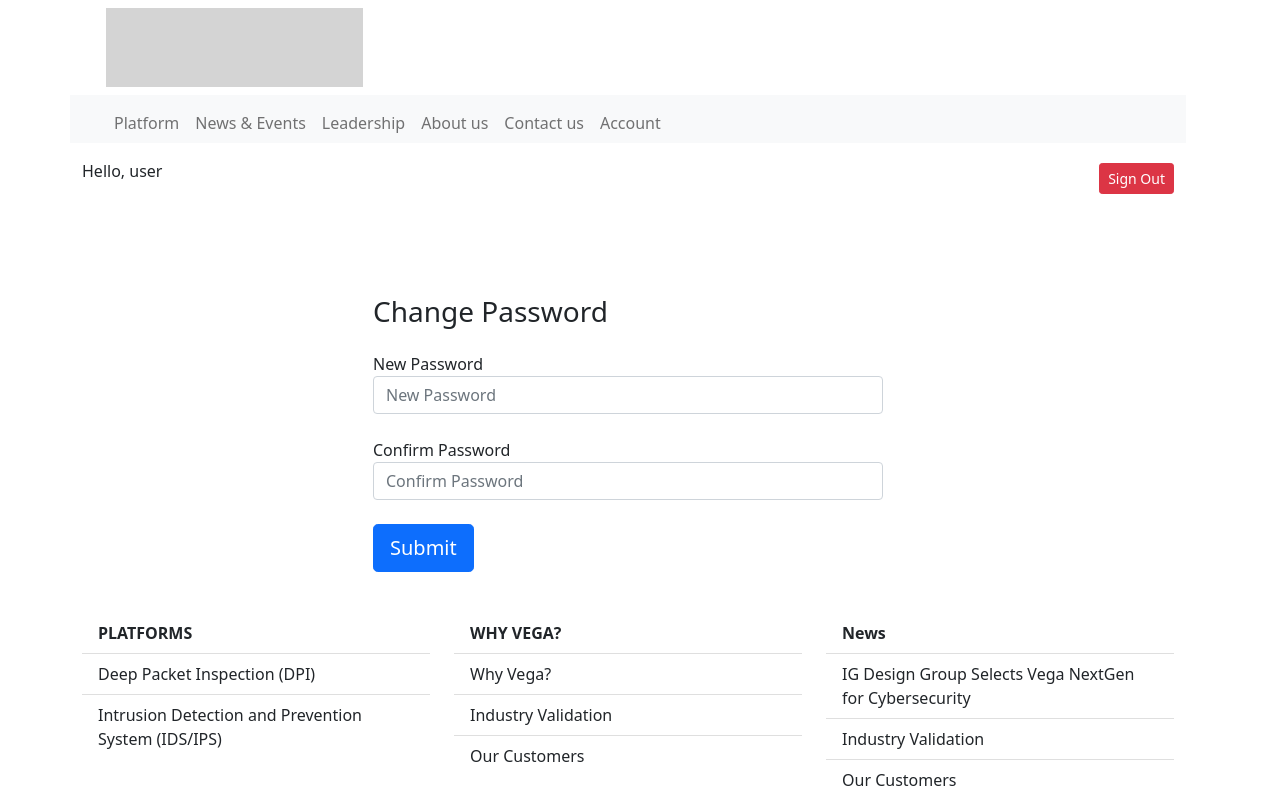
Test: UserAccount › change password form › shows error message when confirmPassword is empty
The image size is (1280, 800).
In the password field labelled "New Password": (628, 396) [373,376,883,414], type "12345678"
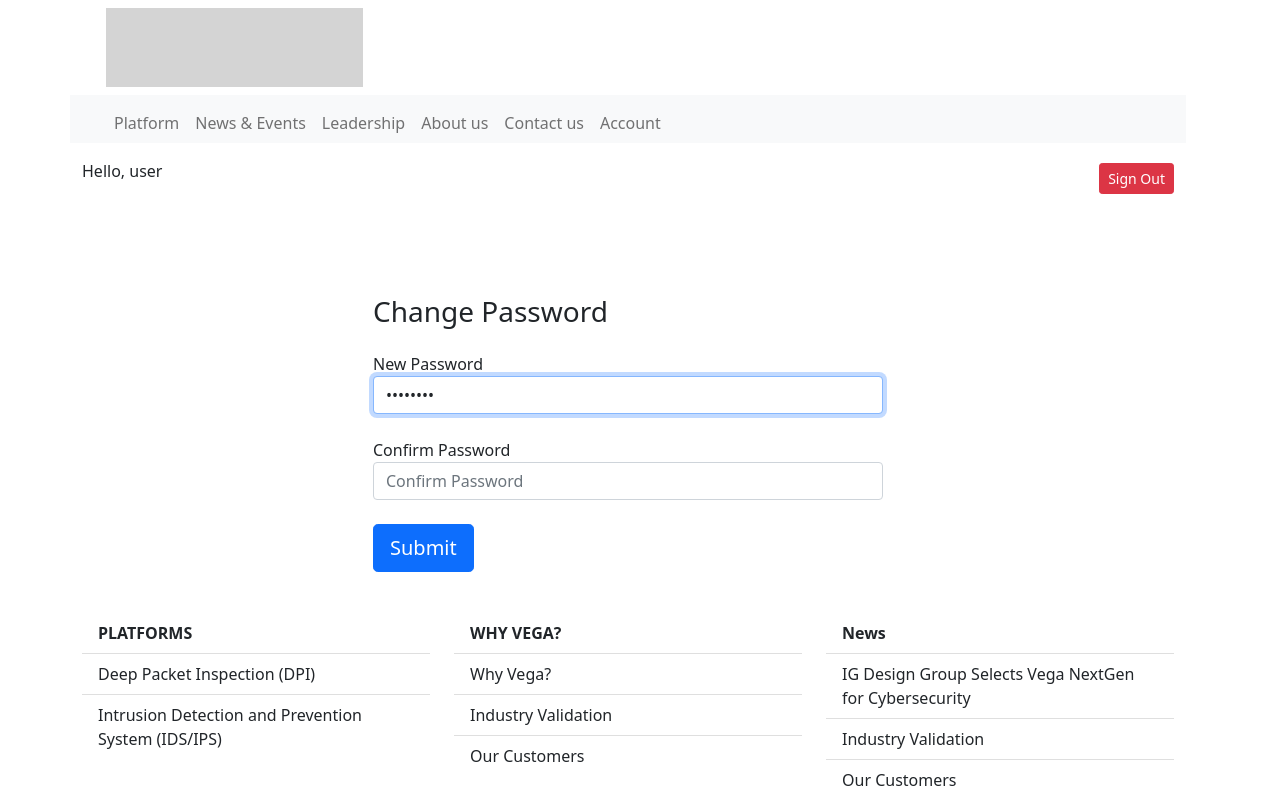
Click the button "Submit": (423, 548) [373,524,474,572]
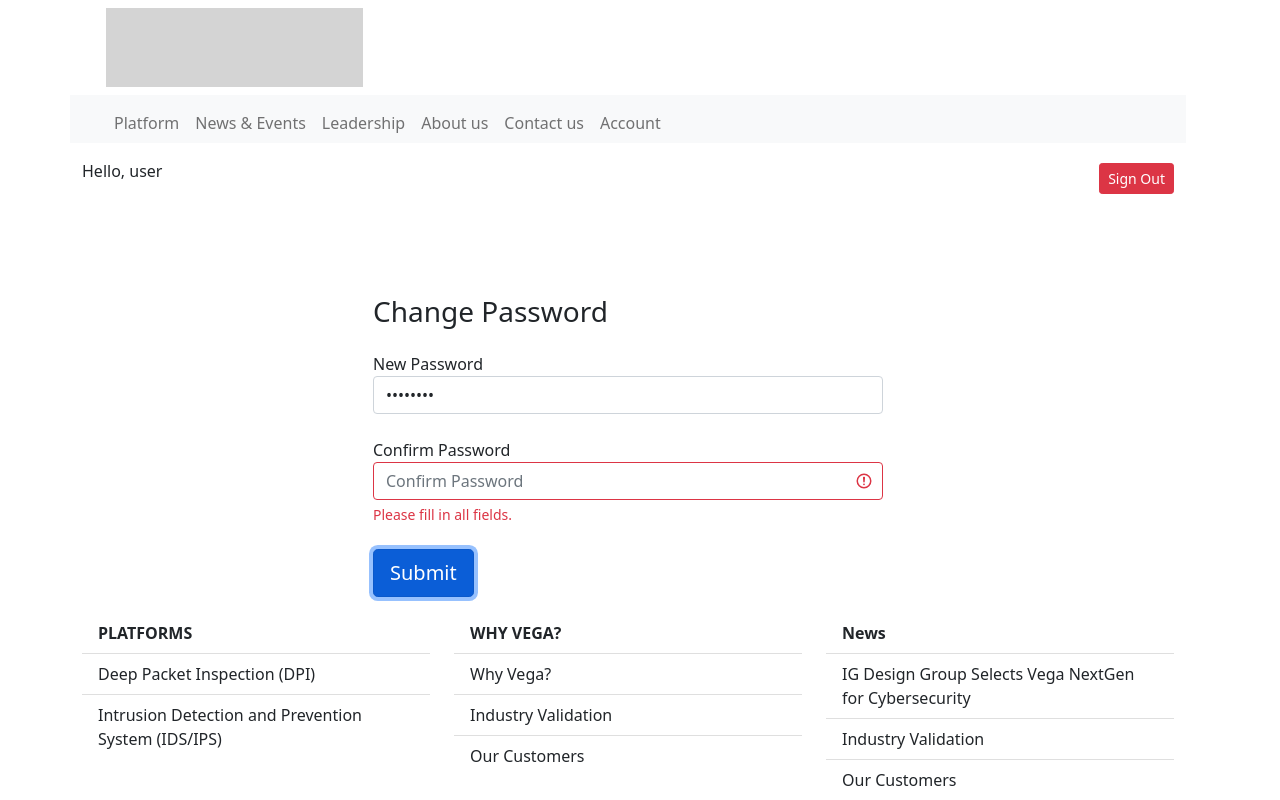
Check: the text "Please fill in all fields." is shown, box [373,506,512,524]
